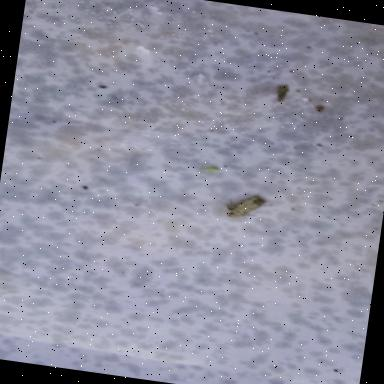pbw: (213, 186, 276, 230)
